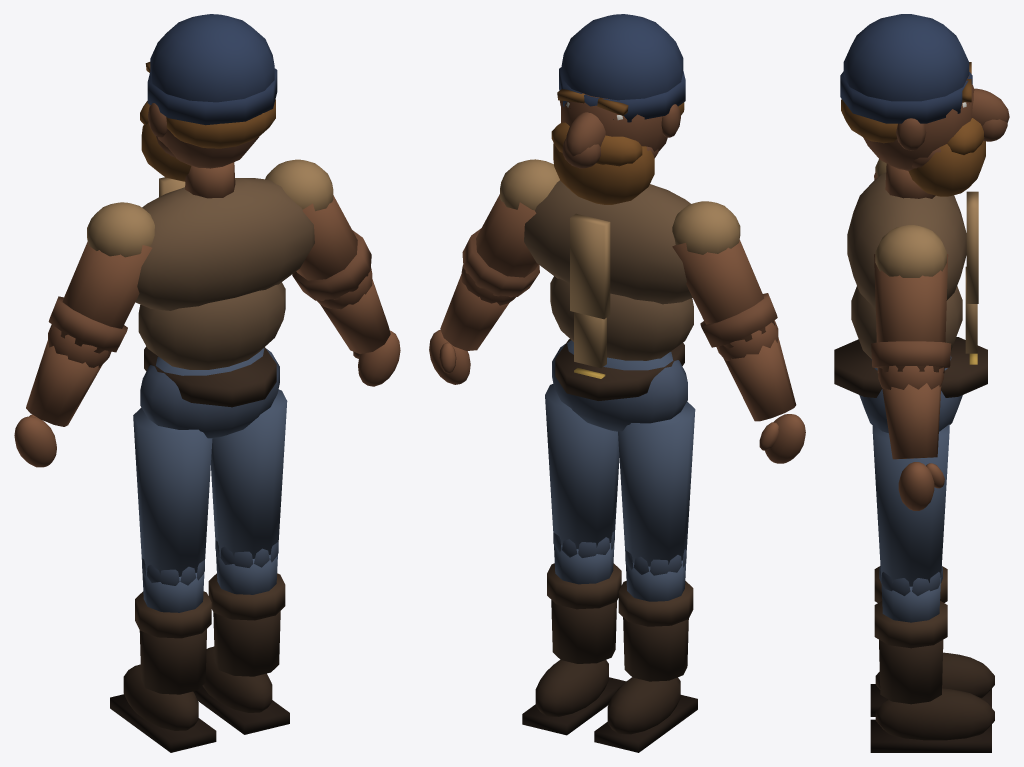
The model's file is estivador_2.glb.
3 renders of one model, left to right at view 1: azimuth 30°, elevation 25°; view 2: azimuth 150°, elevation 25°; view 3: azimuth 270°, elevation 25°, orthographic. The views are drawn at different scales.
Parts seen in each view (by area): view 1: Chest, Head, RightUpperLeg, LeftUpperLeg, Hips, Spine, LeftLowerLeg, RightLowerLeg, RightUpperArm, LeftUpperArm, RightForeArm, RightFoot (+5 smaller); view 2: Chest, Head, RightUpperLeg, LeftUpperLeg, Hips, RightLowerLeg, LeftLowerLeg, Spine, RightUpperArm, LeftUpperArm, RightFoot, LeftFoot (+4 smaller); view 3: Head, Chest, LeftLowerLeg, LeftUpperLeg, LeftUpperArm, LeftFoot, Hips, LeftForeArm, Spine, RightFoot, LeftHand, Neck (+1 smaller).
Boxes of the visible parts, bbox=[...] form: Chest: bbox=[87, 159, 333, 310]; Head: bbox=[140, 14, 277, 181]; RightUpperLeg: bbox=[133, 407, 212, 576]; LeftUpperLeg: bbox=[211, 389, 287, 558]; Hips: bbox=[140, 346, 279, 438]; Spine: bbox=[138, 282, 285, 369]; LeftLowerLeg: bbox=[208, 540, 285, 676]; RightLowerLeg: bbox=[135, 558, 211, 694]; RightUpperArm: bbox=[48, 242, 152, 355]; LeftUpperArm: bbox=[292, 195, 371, 300]; RightForeArm: bbox=[26, 324, 111, 426]; RightFoot: bbox=[110, 664, 216, 752]; Chest: bbox=[500, 159, 740, 319]; Head: bbox=[551, 14, 685, 204]; RightUpperLeg: bbox=[618, 401, 695, 566]; LeftUpperLeg: bbox=[545, 384, 619, 549]; Hips: bbox=[552, 339, 687, 431]; RightLowerLeg: bbox=[618, 548, 693, 681]; LeftLowerLeg: bbox=[547, 531, 621, 663]; Spine: bbox=[550, 276, 693, 368]; RightUpperArm: bbox=[672, 239, 777, 350]; LeftUpperArm: bbox=[462, 194, 539, 297]; RightFoot: bbox=[594, 677, 697, 752]; LeftFoot: bbox=[522, 660, 625, 735]; Head: bbox=[840, 14, 1009, 196]; Chest: bbox=[847, 159, 978, 308]; LeftLowerLeg: bbox=[874, 566, 947, 704]; LeftUpperLeg: bbox=[872, 424, 949, 586]; LeftUpperArm: bbox=[871, 254, 951, 373]; LeftFoot: bbox=[870, 688, 994, 752]; Hips: bbox=[834, 337, 987, 433]; LeftForeArm: bbox=[878, 365, 943, 459]; Spine: bbox=[851, 266, 977, 358]; RightFoot: bbox=[870, 652, 994, 716]; LeftHand: bbox=[898, 462, 944, 510]; Neck: bbox=[885, 163, 935, 198].
Bounding box in the file's own units: 1.09 × 1.92 × 0.4341.
